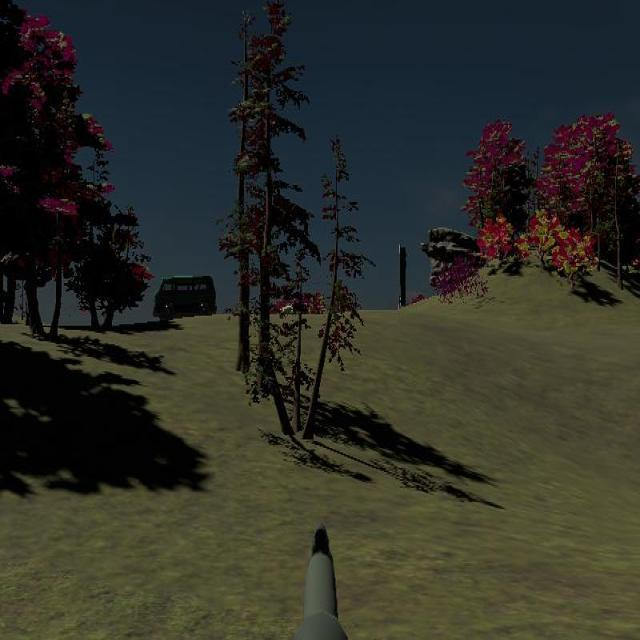car: (153, 275, 217, 322)
